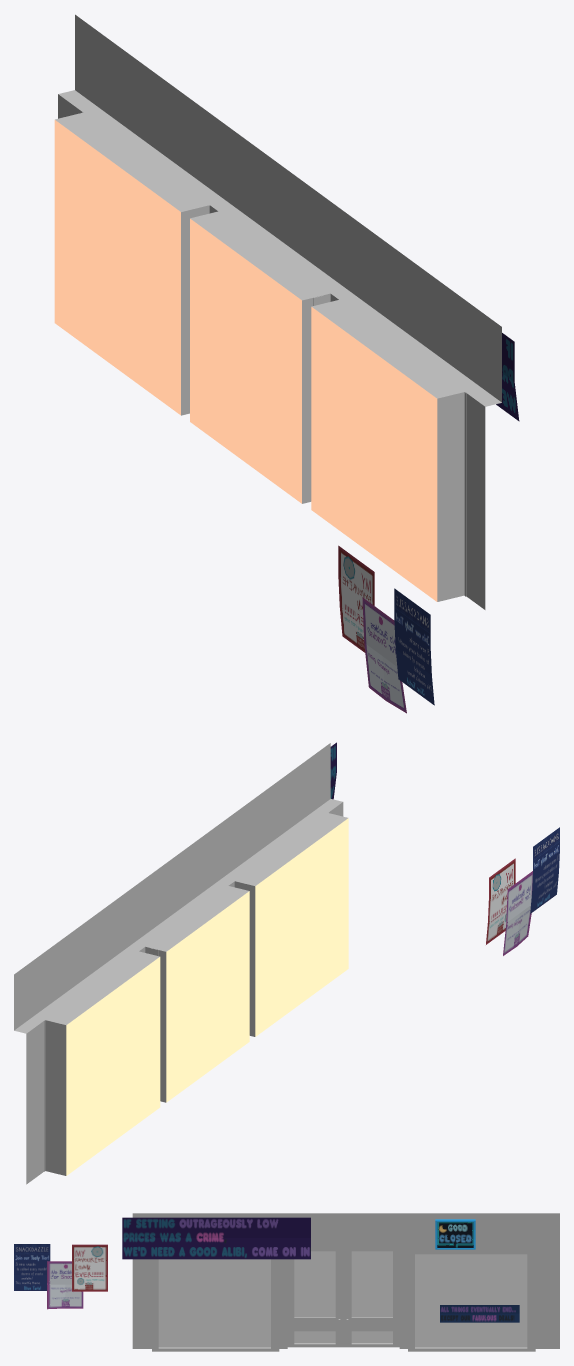
The model's file is DBLiveTrashierGrossCherieFacade.fbx.
3 views of the same model, one above another, from view 1: azimuth 30°, elevation 25°; view 2: azimuth 150°, elevation 25°; view 3: azimuth 270°, elevation 25° (orthographic). The views are drawn at different scales.
Parts seen in each view (by area): view 1: ApartMint.008, Poster.033, Poster.202; view 2: ApartMint.008, Poster.033; view 3: ApartMint.008, SlidingDoors.019, SlidingDoors.020, Poster.202, SlidingDoors.016, SlidingDoors.017, Poster.033, Poster.056.
Part boxes in pixels (bbox=[...]): ApartMint.008: bbox=[54, 14, 501, 609]; Poster.033: bbox=[338, 545, 434, 713]; Poster.202: bbox=[496, 333, 519, 421]; ApartMint.008: bbox=[14, 743, 348, 1184]; Poster.033: bbox=[486, 827, 559, 955]; ApartMint.008: bbox=[132, 1213, 559, 1348]; SlidingDoors.019: bbox=[152, 1259, 279, 1351]; SlidingDoors.020: bbox=[408, 1251, 535, 1351]; Poster.202: bbox=[122, 1217, 519, 1322]; SlidingDoors.016: bbox=[343, 1251, 399, 1347]; SlidingDoors.017: bbox=[287, 1251, 343, 1347]; Poster.033: bbox=[14, 1244, 107, 1309]; Poster.056: bbox=[435, 1219, 475, 1249].
Size of the model in its own units: 441 by 590 by 2088.
